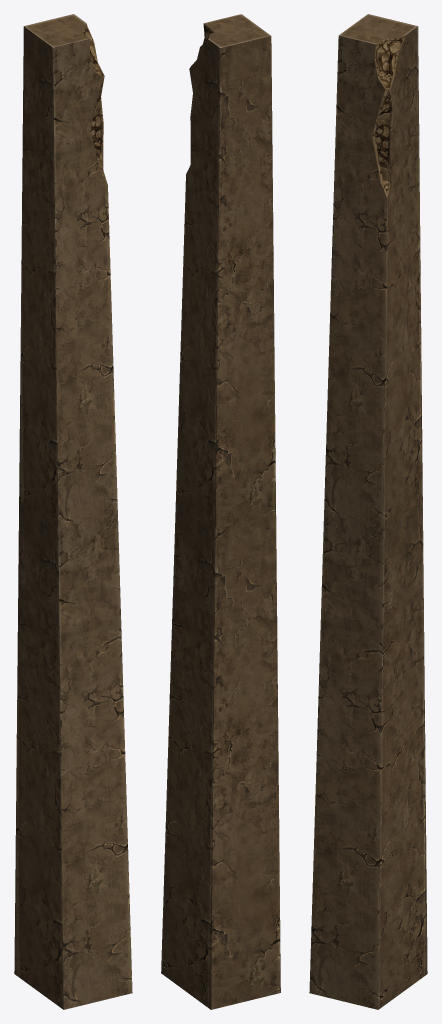
File: A_zhuzi003.fbx
The picture shows the model from 3 angles, left to right: view 1: azimuth 30°, elevation 25°; view 2: azimuth 210°, elevation 25°; view 3: azimuth 330°, elevation 25°; orthographic projection.
Visible parts, largest first — view 1: A_zhuzi003; view 2: A_zhuzi003; view 3: A_zhuzi003.
Part boxes in pixels (left/top/right/bottom): A_zhuzi003: left=14, top=14, right=132, bottom=1009; A_zhuzi003: left=161, top=14, right=280, bottom=1009; A_zhuzi003: left=309, top=14, right=427, bottom=1009.
Bounding box in the file's own units: 137 × 1800 × 170.
